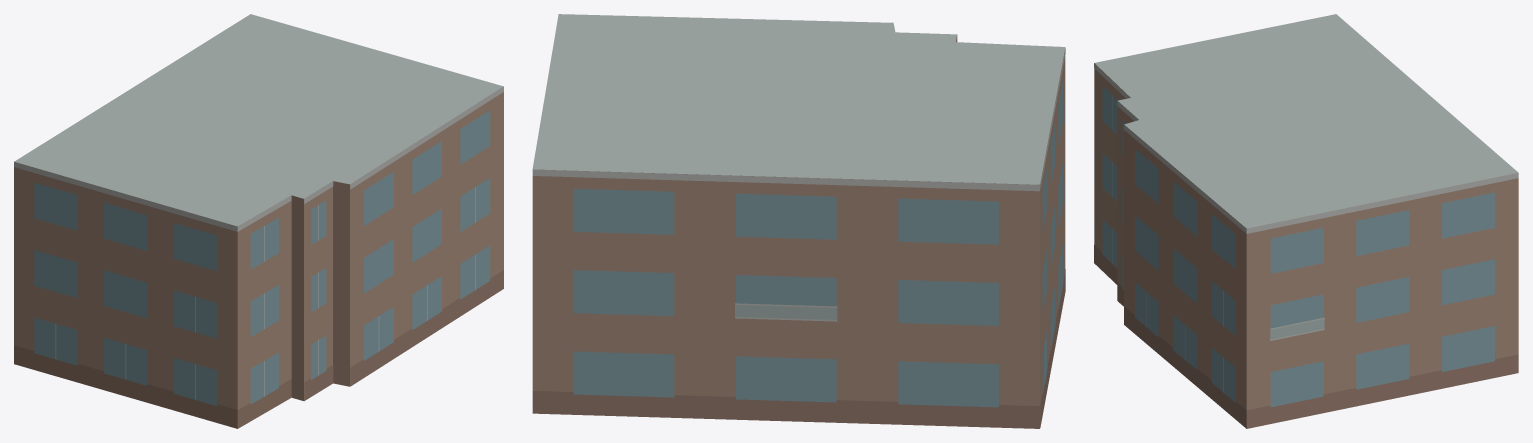
The model's file is survey-upis-32739226.glb.
The picture shows the model from 3 angles, left to right: view 1: azimuth 30°, elevation 25°; view 2: azimuth 150°, elevation 25°; view 3: azimuth 270°, elevation 25°; orthographic projection. The views are drawn at different scales.
Visible parts, largest first — view 1: survey-upis-32739226.tmp; view 2: survey-upis-32739226.tmp; view 3: survey-upis-32739226.tmp.
Part boxes in pixels (box(x1,y1,x2,y2)): survey-upis-32739226.tmp: box(14, 14, 503, 428); survey-upis-32739226.tmp: box(532, 14, 1065, 428); survey-upis-32739226.tmp: box(1094, 14, 1518, 428).
Bounding box in the file's own units: 21.04 × 9.15 × 17.58.
